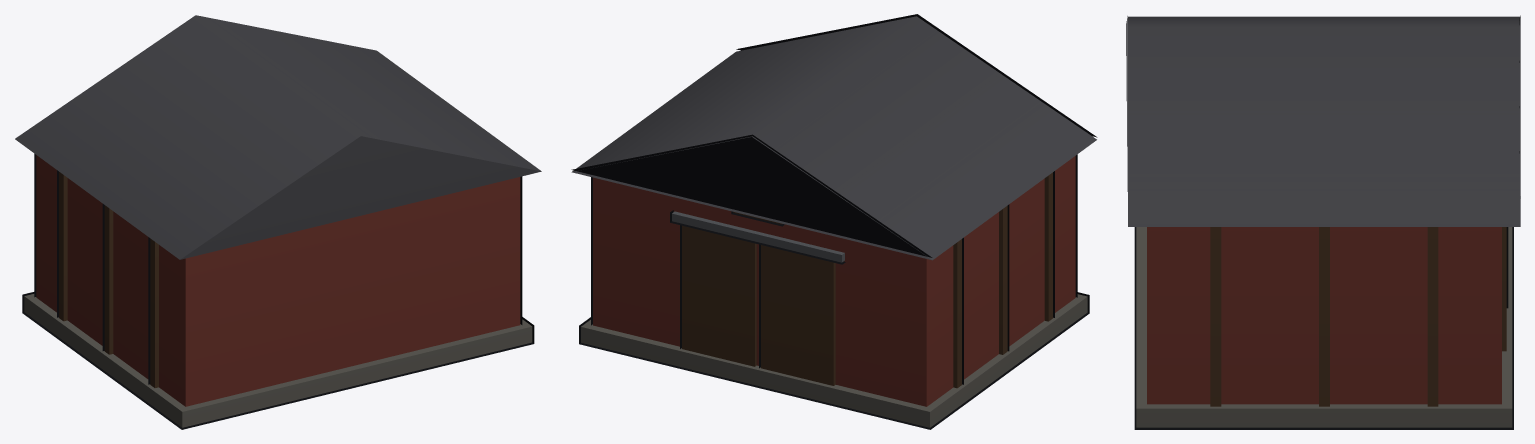
The model's file is ranch_barn.glb.
3 renders of one model, left to right at view 1: azimuth 30°, elevation 25°; view 2: azimuth 150°, elevation 25°; view 3: azimuth 270°, elevation 25°, orthographic. The views are drawn at different scales.
Parts seen in each view (by area): view 1: prop; view 2: prop; view 3: prop.
Part boxes in pixels (x1,y1,x2,y2): prop: (15,15,541,429); prop: (571,14,1097,429); prop: (1126,15,1520,429).
Size of the model in its own units: 11.93 by 7.99 by 9.44.
